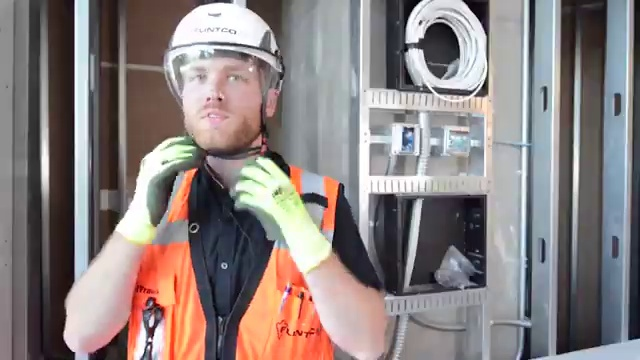helmet: (114, 165, 341, 360), (158, 1, 292, 101)
